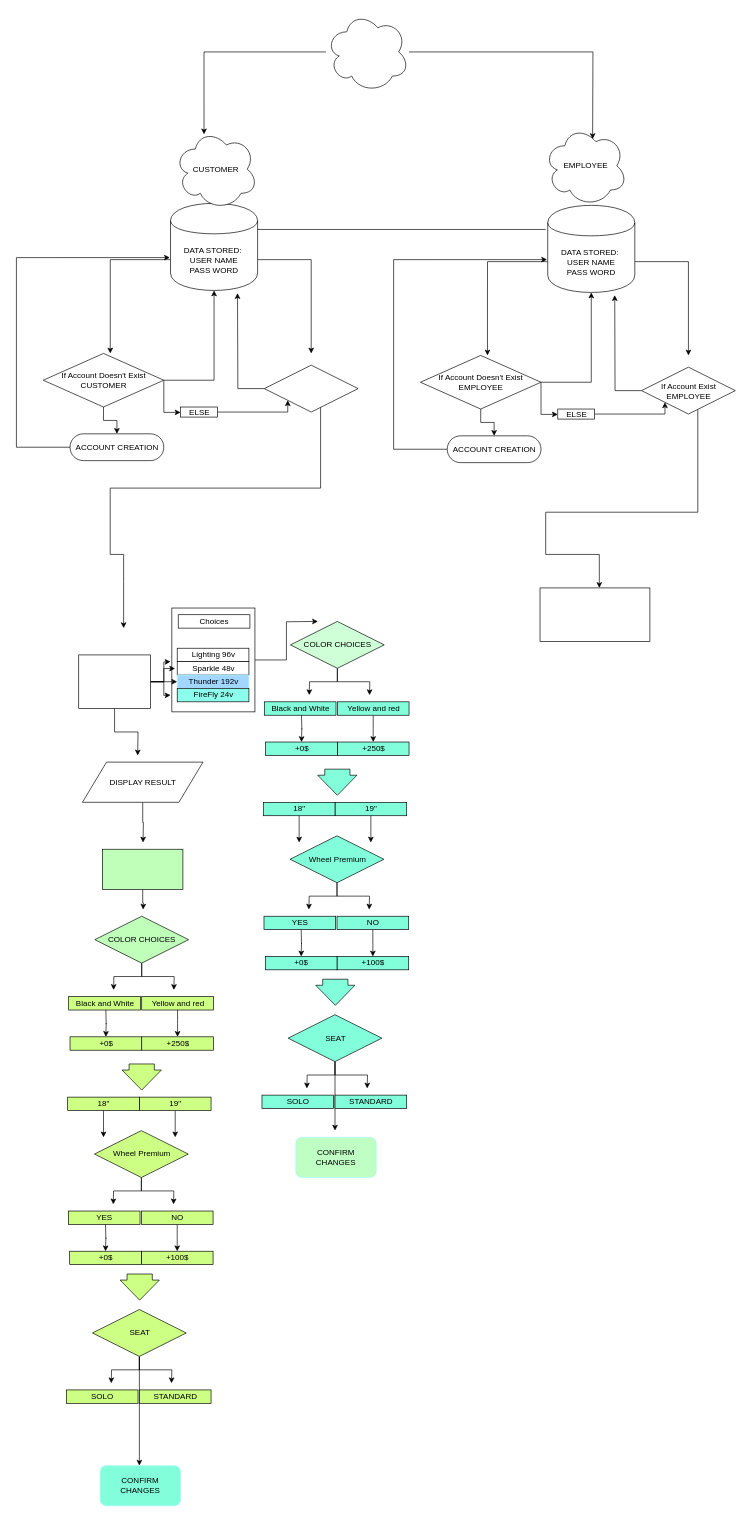
This 747x1518 diagram has some shape labels left out. The shapes that lost their labels are listed below. From the top down, each one's centre as x and y in pixels, then its label:
pixel 367 51: ADMINSTRATION LOGIN..
pixel 311 388: If Account Exist CUSTOMER
pixel 594 614: DATA MAINTANCE
pixel 114 681: ORDER MODEL
pixel 142 869: USER CART
